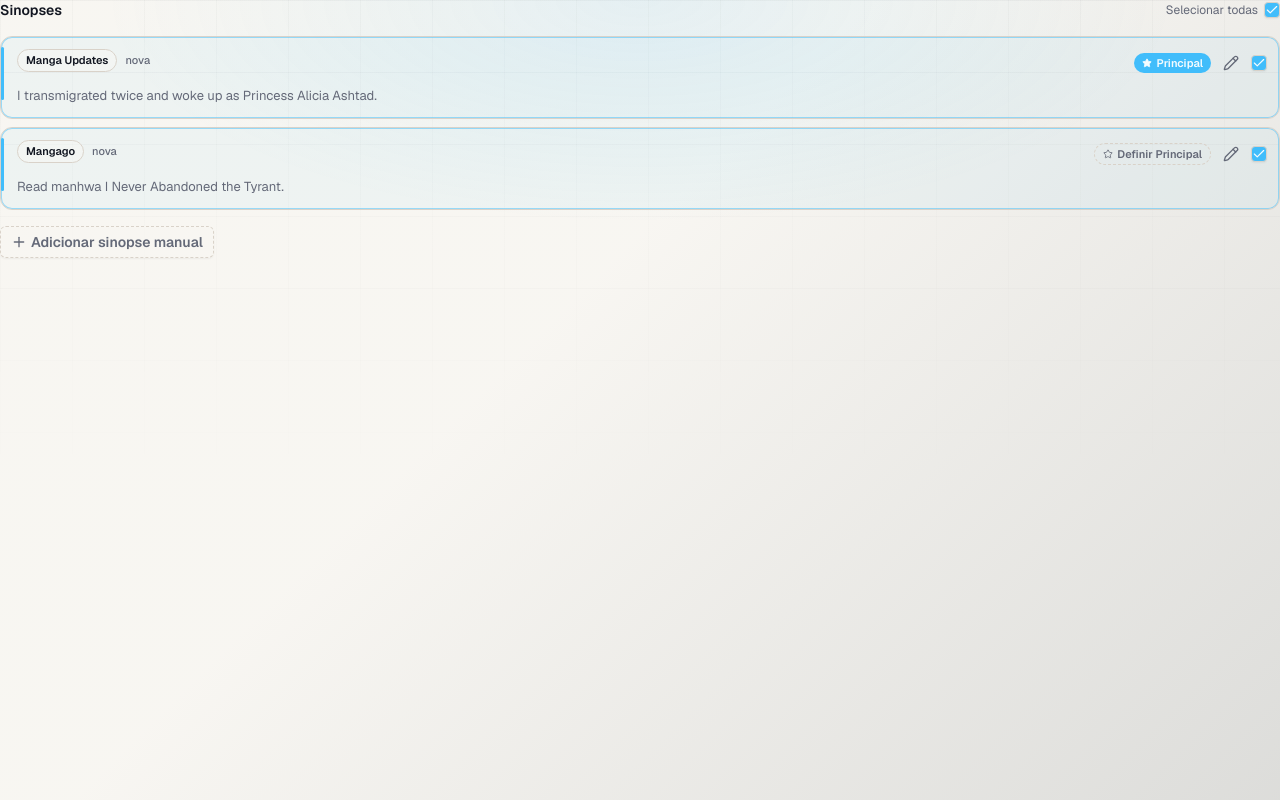
Test: SynopsisPicker — editar o texto › editar uma sinopse de fonte converte para manual e rotula a origem
Click the button named "Editar o texto" at (1231, 63), box x1=1217 y1=49 x2=1245 y2=77
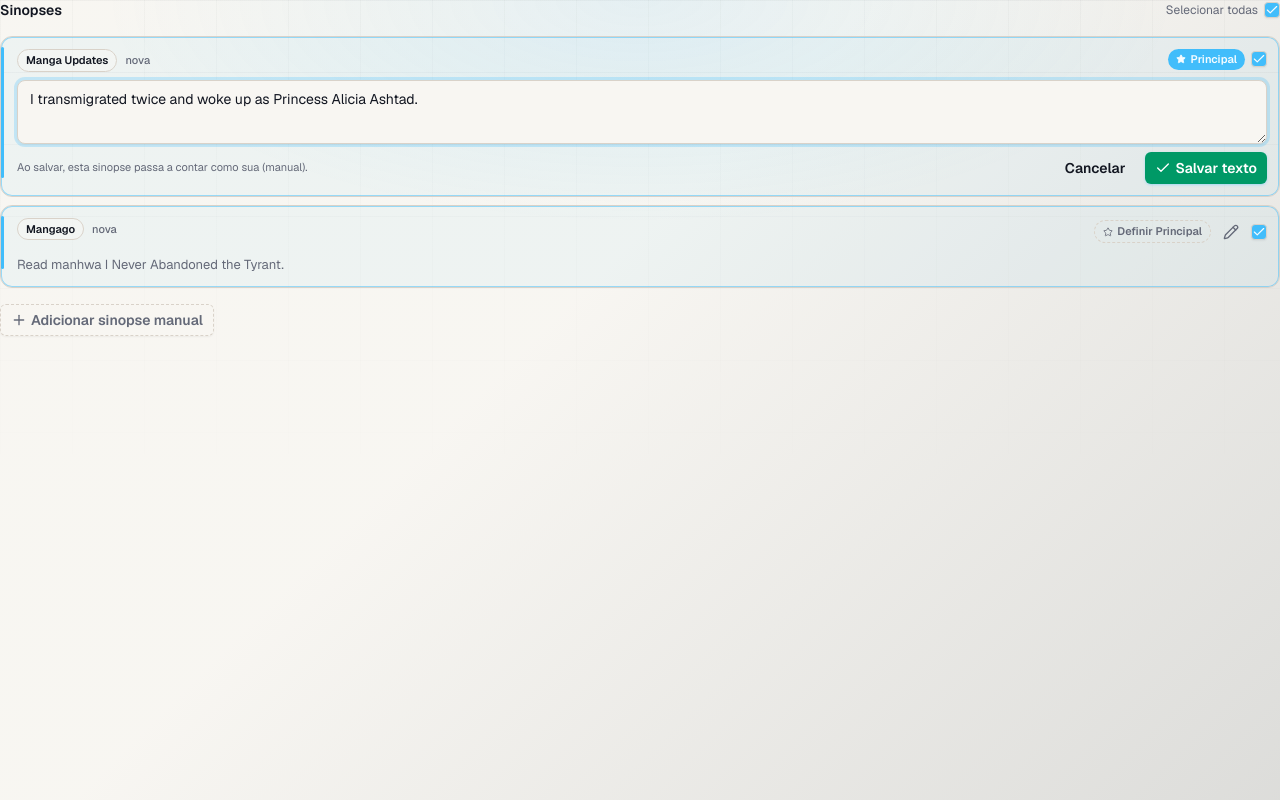
Replace the text in the text box with "Texto que eu reescrevi." at (642, 112), box x1=17 y1=80 x2=1267 y2=144
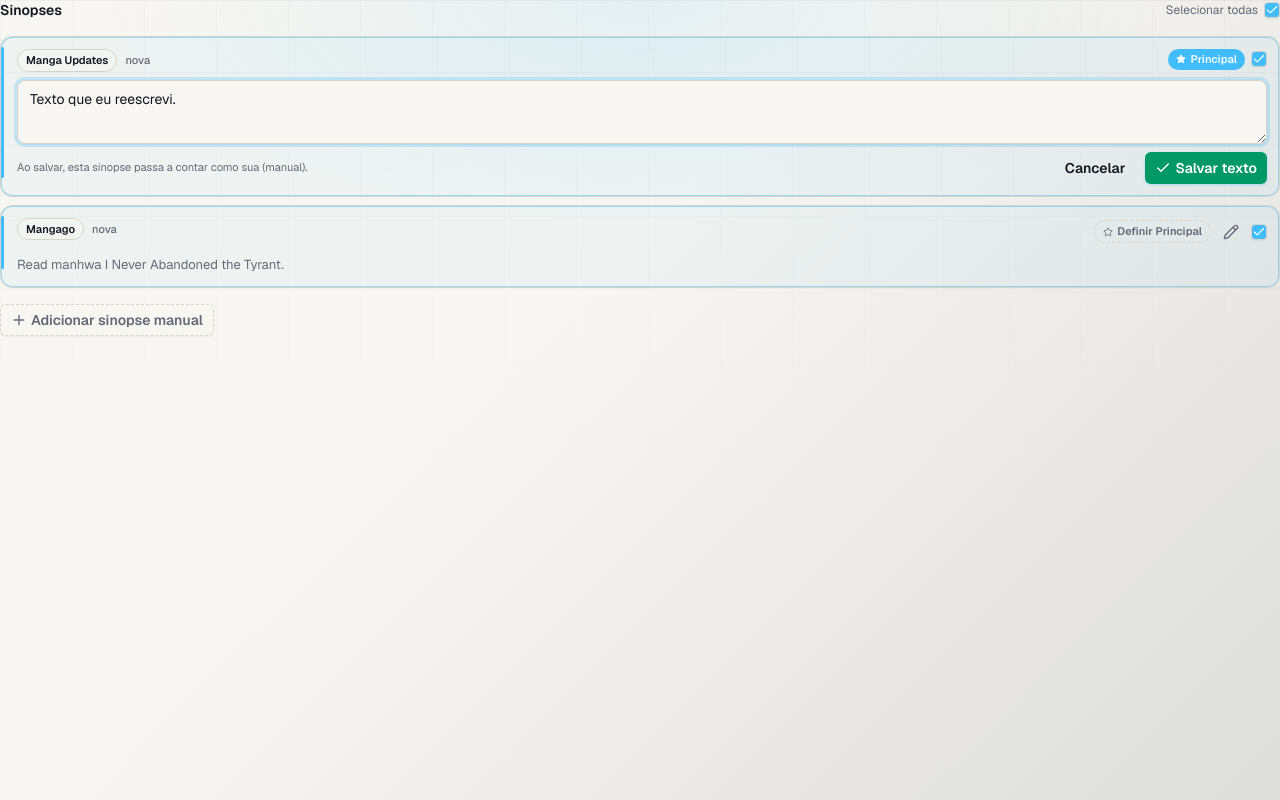
Click the button "Salvar texto" at (1206, 168), box x1=1145 y1=152 x2=1267 y2=184
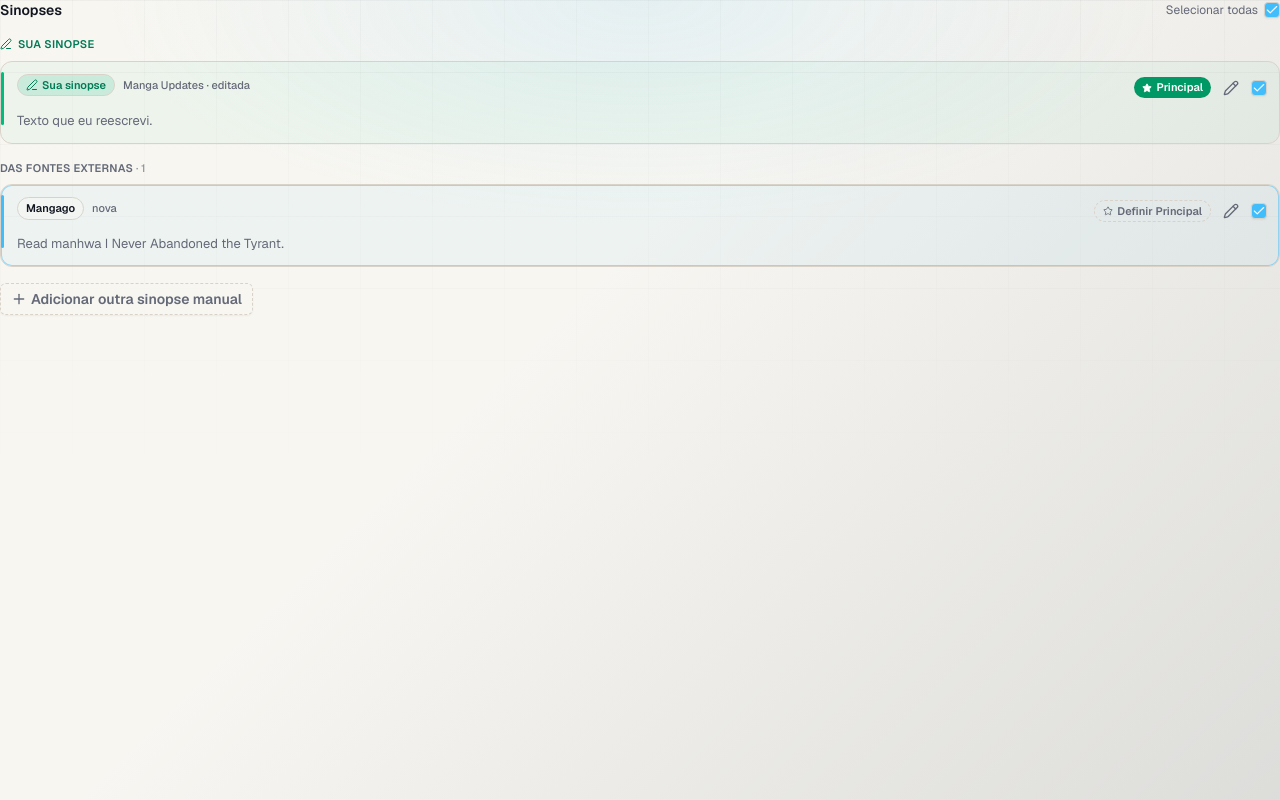
Expected: the text "Manga Updates · editada" is shown, x1=123 y1=76 x2=250 y2=93
